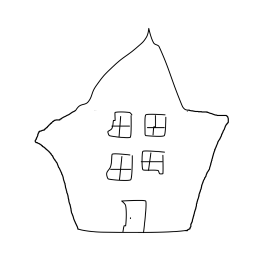closed_window: (100, 147, 139, 185), (139, 145, 180, 178), (100, 107, 136, 143), (143, 107, 172, 141)
door: (116, 195, 156, 236)
single_line_roof: (37, 20, 236, 109)
wall: (36, 110, 234, 241)
